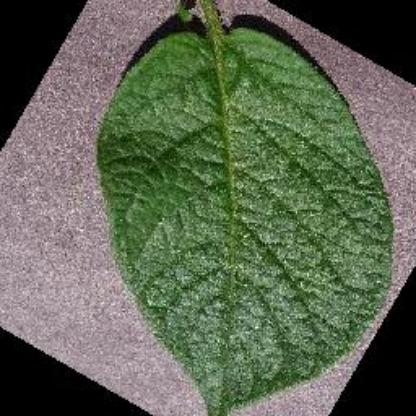Healthy-plant: (97, 1, 395, 415)
